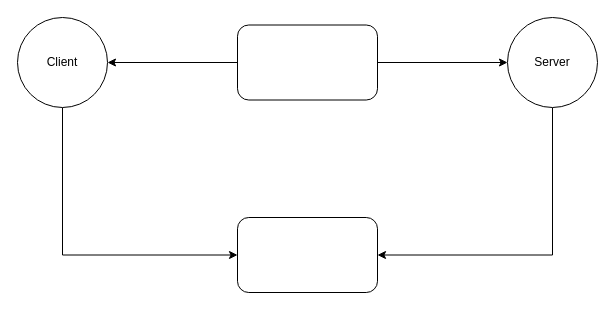
Some shapes in this 615 by 310 pixel diagram are drawn without their labels. The centre of each missing label's shape, as x and y in pixels:
"CommunicationLayer" belongs at (x=307, y=62).
"InterpretationLayer" belongs at (x=307, y=254).
